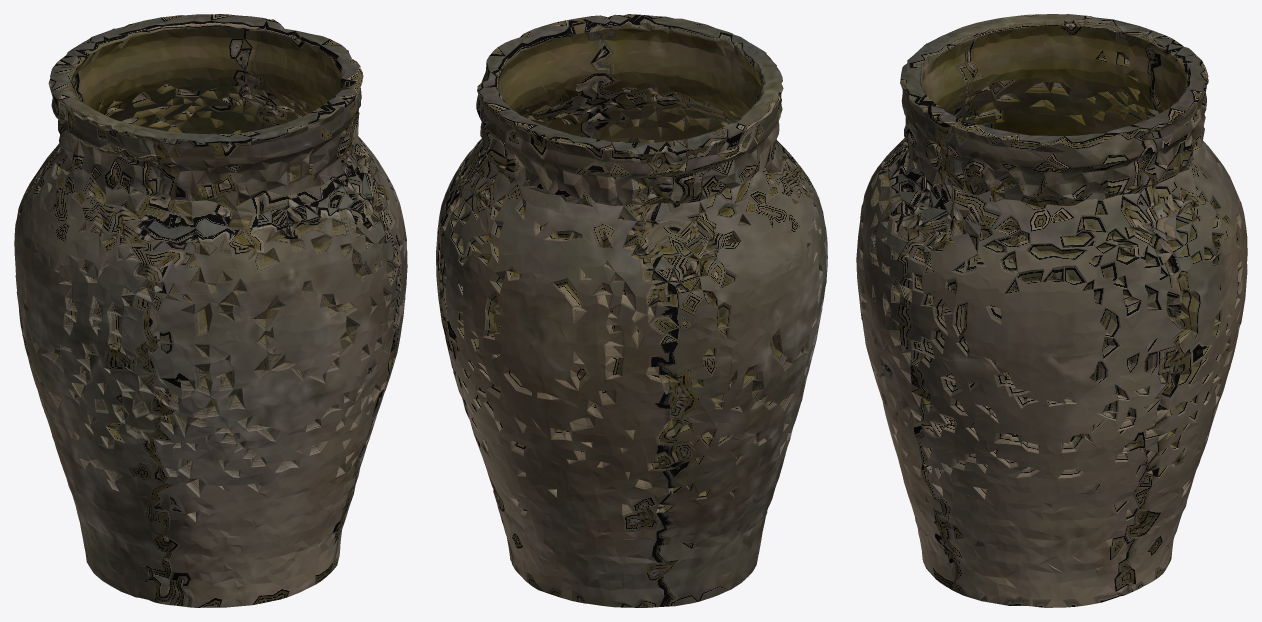
Rendered from hm-medieval-storage-jar.lod1.glb.
3 renders of one model, left to right at view 1: azimuth 30°, elevation 25°; view 2: azimuth 150°, elevation 25°; view 3: azimuth 270°, elevation 25°, orthographic.
Visible parts, largest first — view 1: Object_2; view 2: Object_2; view 3: Object_2.
Part boxes in pixels (box(x1,y1,x2,y2)): Object_2: box(14, 14, 407, 607); Object_2: box(436, 14, 827, 607); Object_2: box(856, 14, 1247, 607).
Bounding box in the file's own units: 0.4715 × 0.6356 × 0.4691.
Materials: 1 (1 with a texture image).
